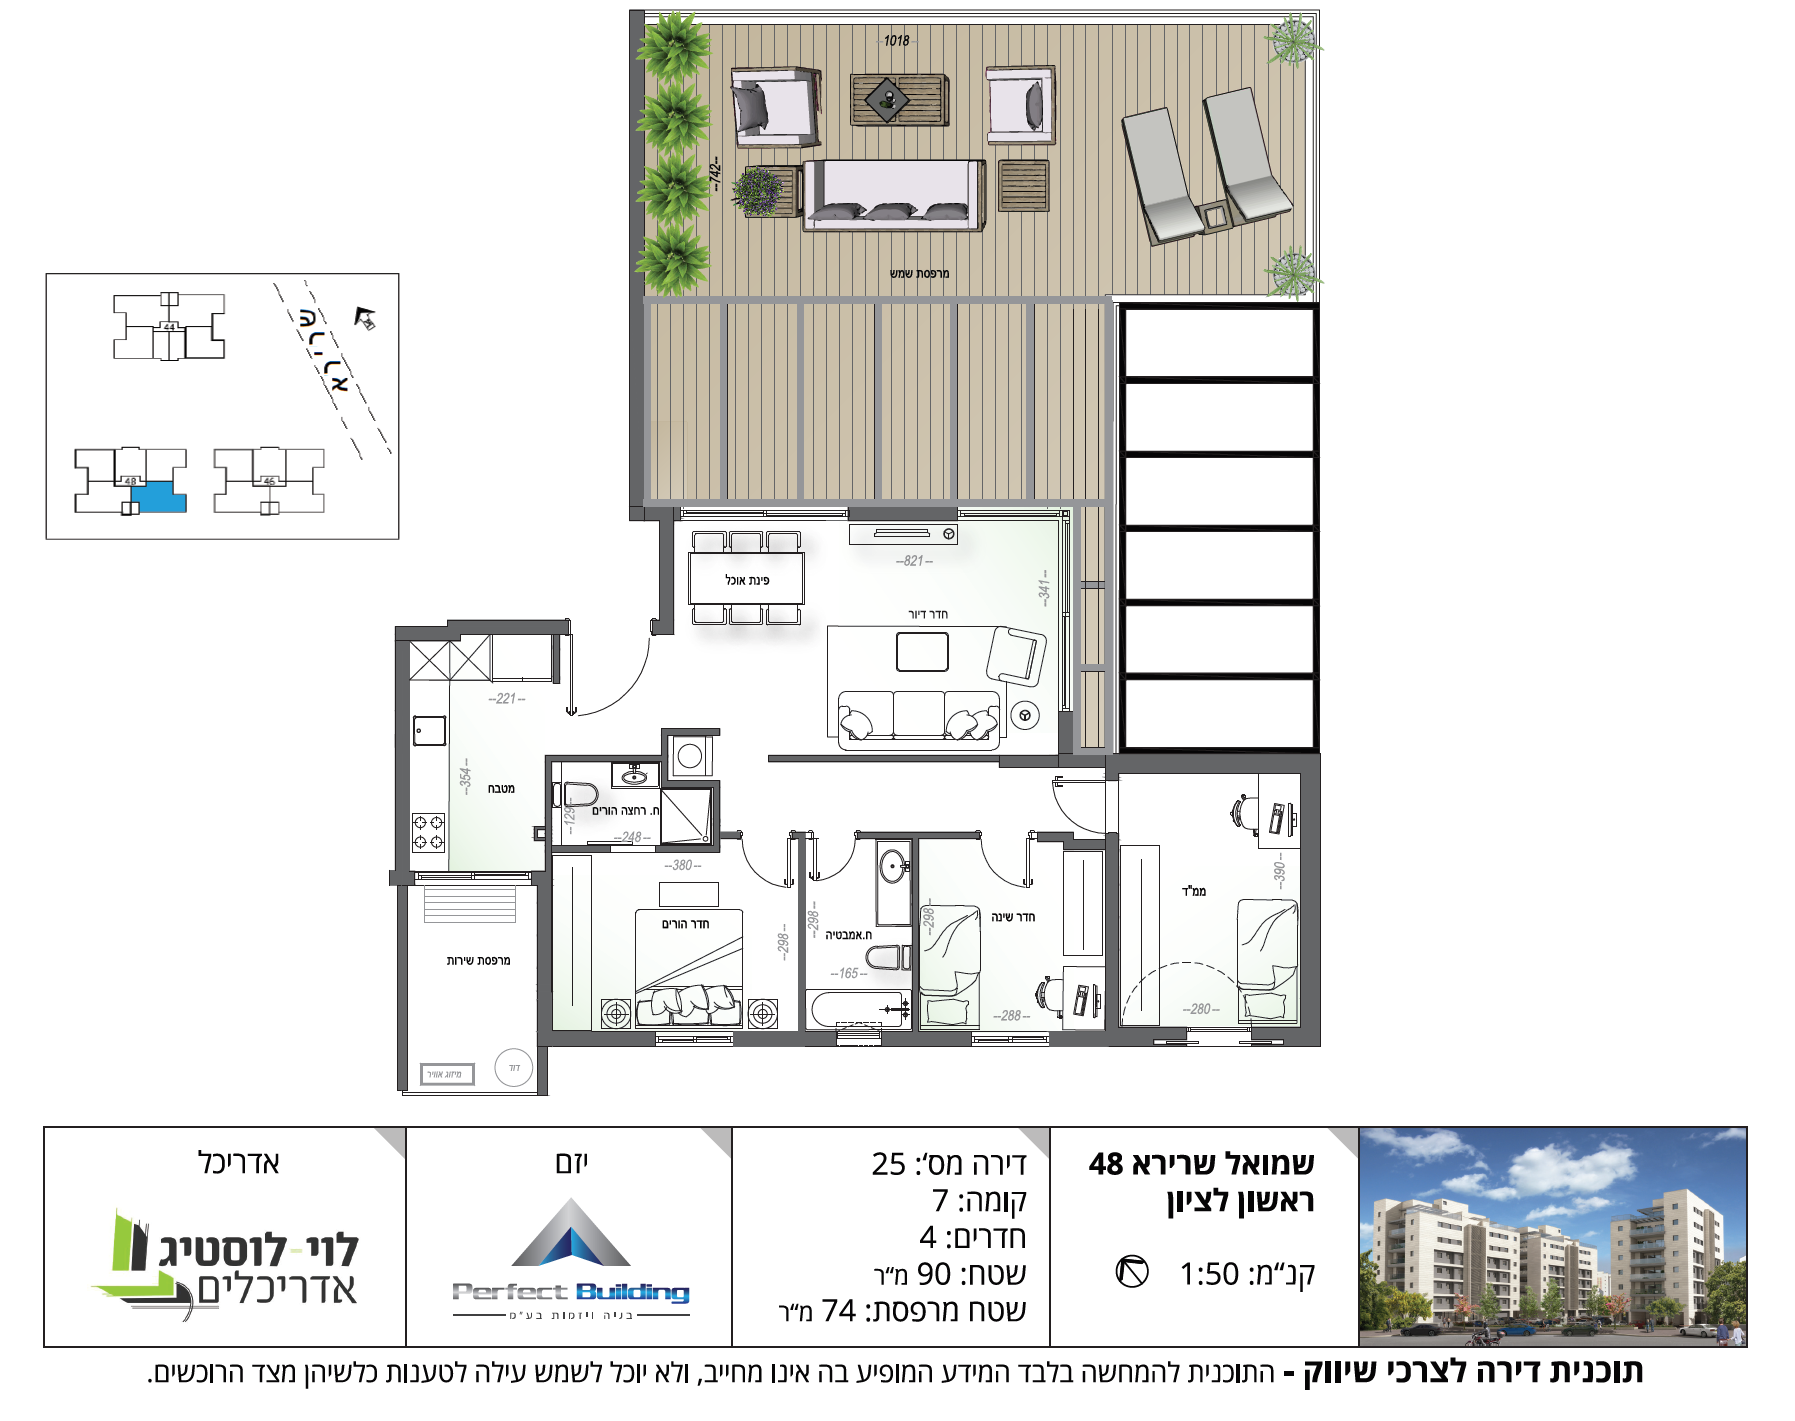door: (562, 641, 666, 716), (803, 839, 865, 893), (972, 848, 1045, 892), (737, 844, 798, 893)
window: (972, 1029, 1055, 1055), (657, 1030, 734, 1044), (841, 1033, 881, 1046)
